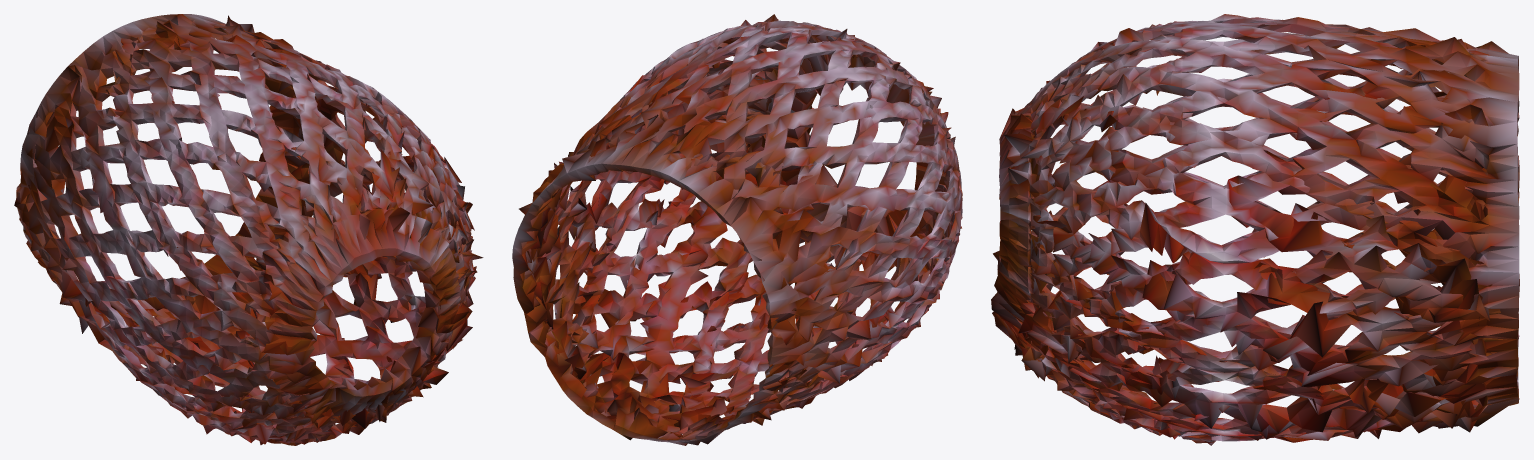
Rendered from lamp_shade_14_final400.obj.
3 renders of one model, left to right at view 1: azimuth 30°, elevation 25°; view 2: azimuth 150°, elevation 25°; view 3: azimuth 270°, elevation 25°, orthographic. The views are drawn at different scales.
Bounding box in the file's own units: 1.27 × 1.23 × 1.52.
